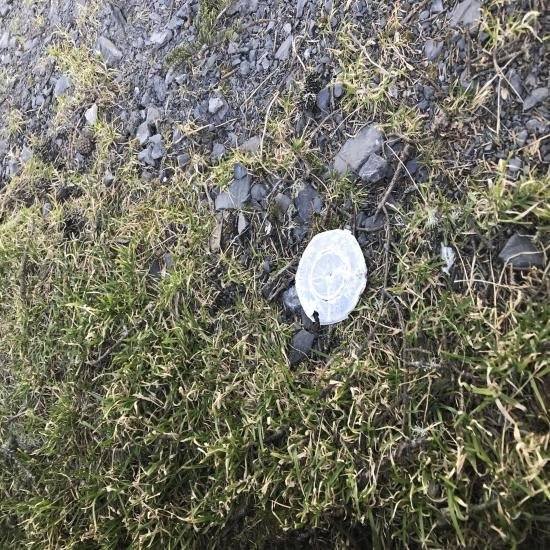Single-use carrier bag: (154, 194, 229, 262)
